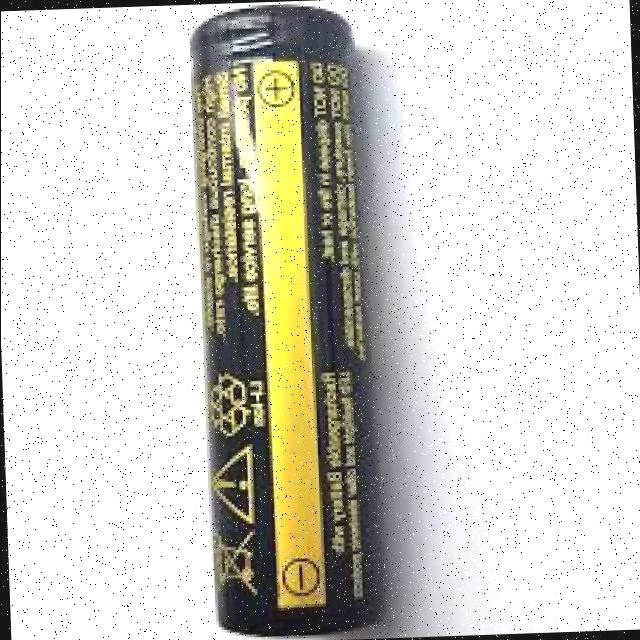AA: (192, 8, 371, 635)
